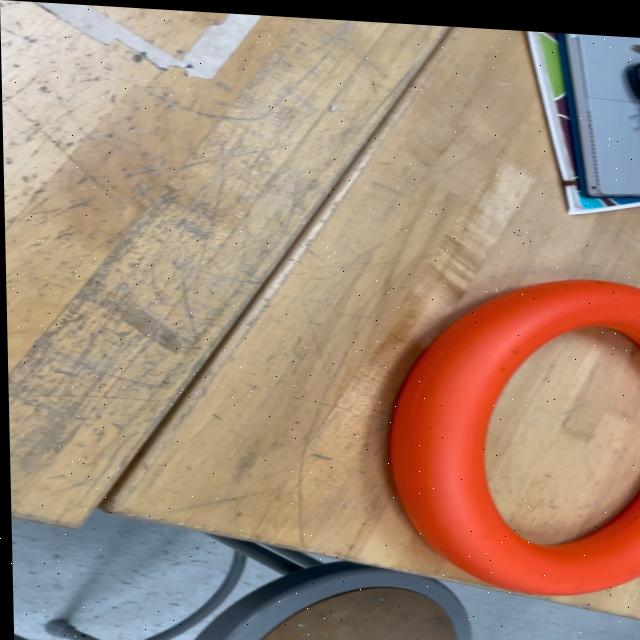note: (376, 266, 640, 597)
